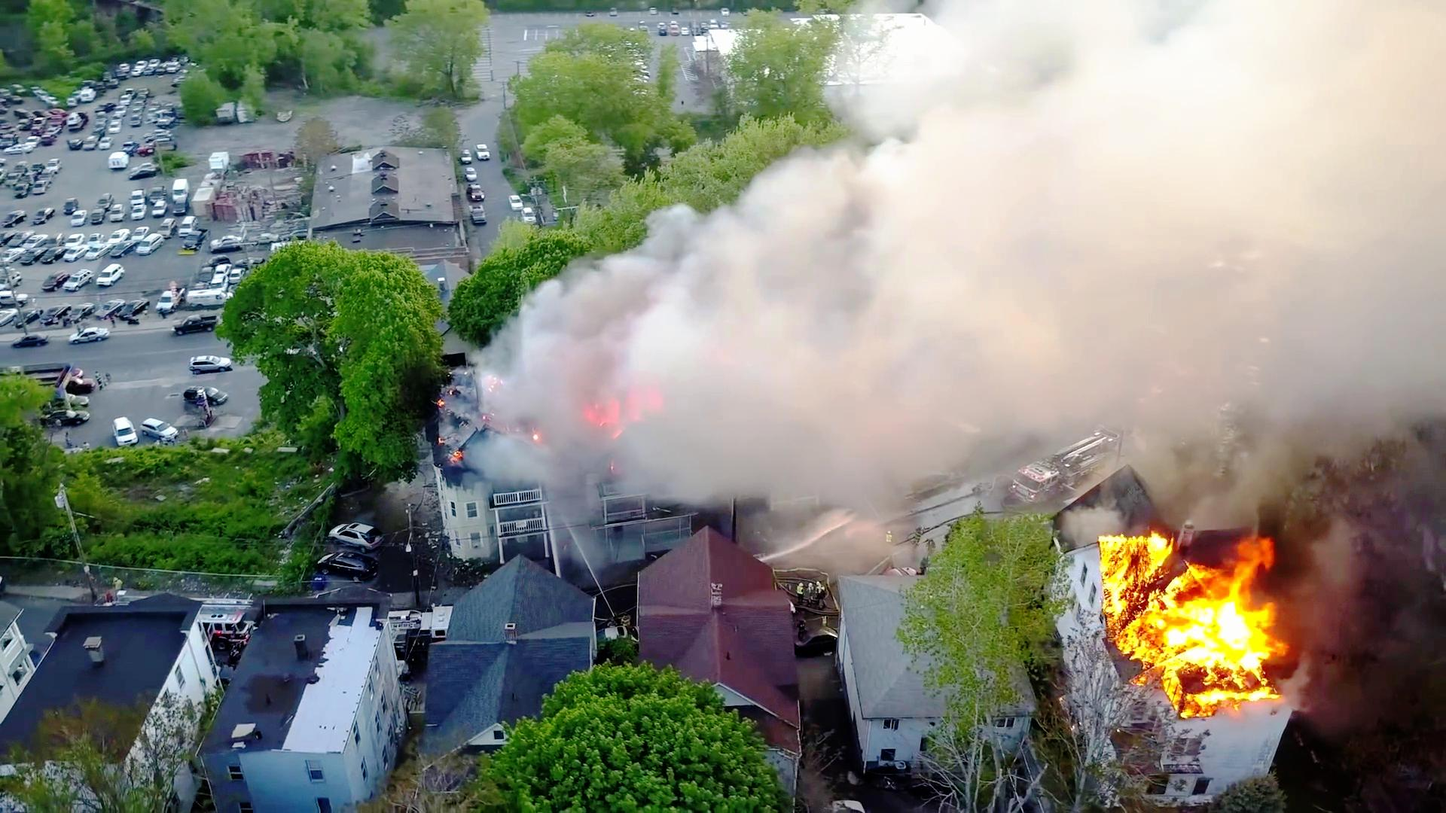fire: (1099, 532, 1297, 705)
smoke: (700, 271, 986, 464)
